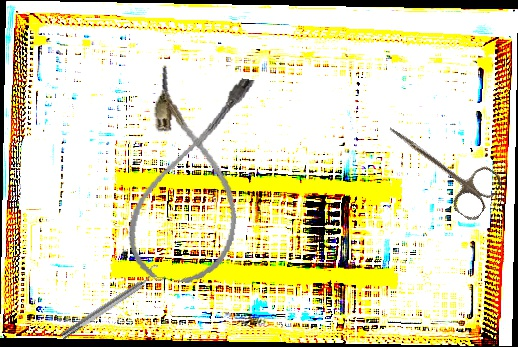Cannula: (121, 63, 262, 290)
Fixation Ring: (56, 263, 167, 344)
Iris Scissors: (372, 108, 506, 224)
